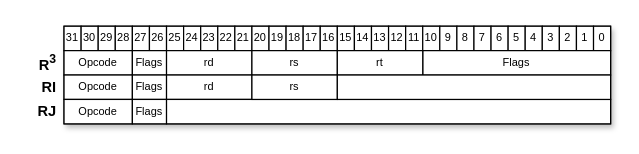
The diagram is 639 pixels wide and 154 high, and some of its shapes have lost their labels. The shapes that lost their labels are listed below. From the top down, each one's centre as x and y in pixels, then its label:
At (473,86): "Immediate".
At (388,111): "Jump".
